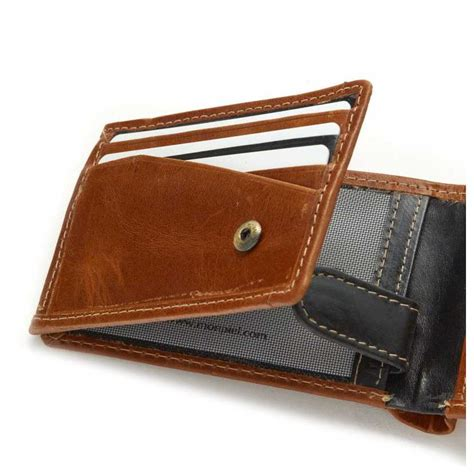cuero: (28, 78, 466, 438)
